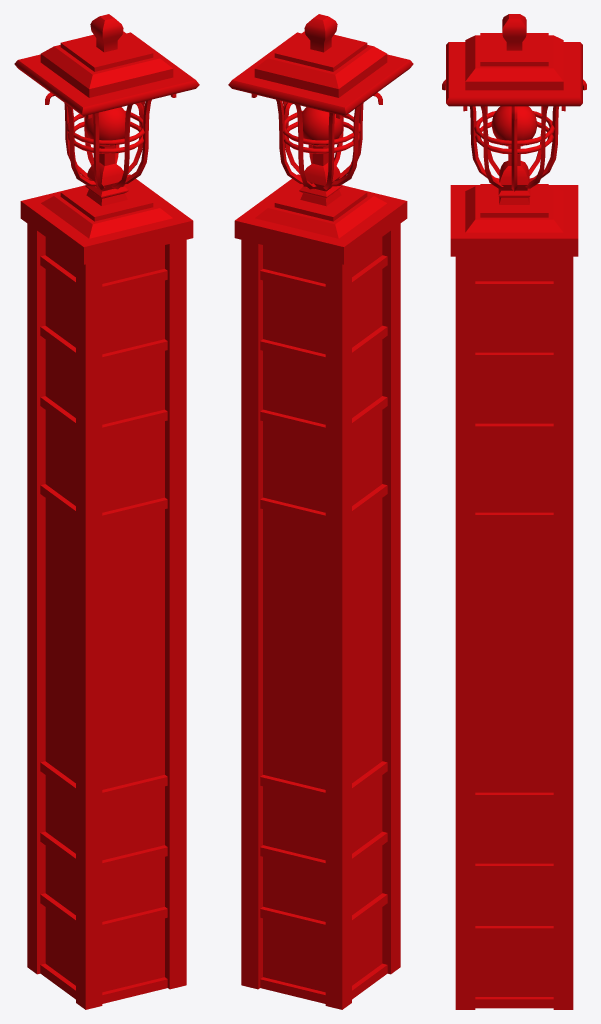
File: SM_fence_pillar.fbx
3 views of the same model, side by side, from view 1: azimuth 30°, elevation 25°; view 2: azimuth 150°, elevation 25°; view 3: azimuth 270°, elevation 25° (orthographic).
Visible parts, largest first — view 1: fence_pillar, fence_pillar.001; view 2: fence_pillar, fence_pillar.001; view 3: fence_pillar, fence_pillar.001.
Part boxes in pixels (left/top/right/bottom): fence_pillar: left=14, top=14, right=199, bottom=1009; fence_pillar.001: left=45, top=237, right=164, bottom=992; fence_pillar: left=228, top=14, right=413, bottom=1009; fence_pillar.001: left=263, top=237, right=382, bottom=992; fence_pillar: left=442, top=14, right=586, bottom=1009; fence_pillar.001: left=475, top=256, right=553, bottom=996.
Bounding box in the file's own units: 29.56 × 218 × 29.56.
